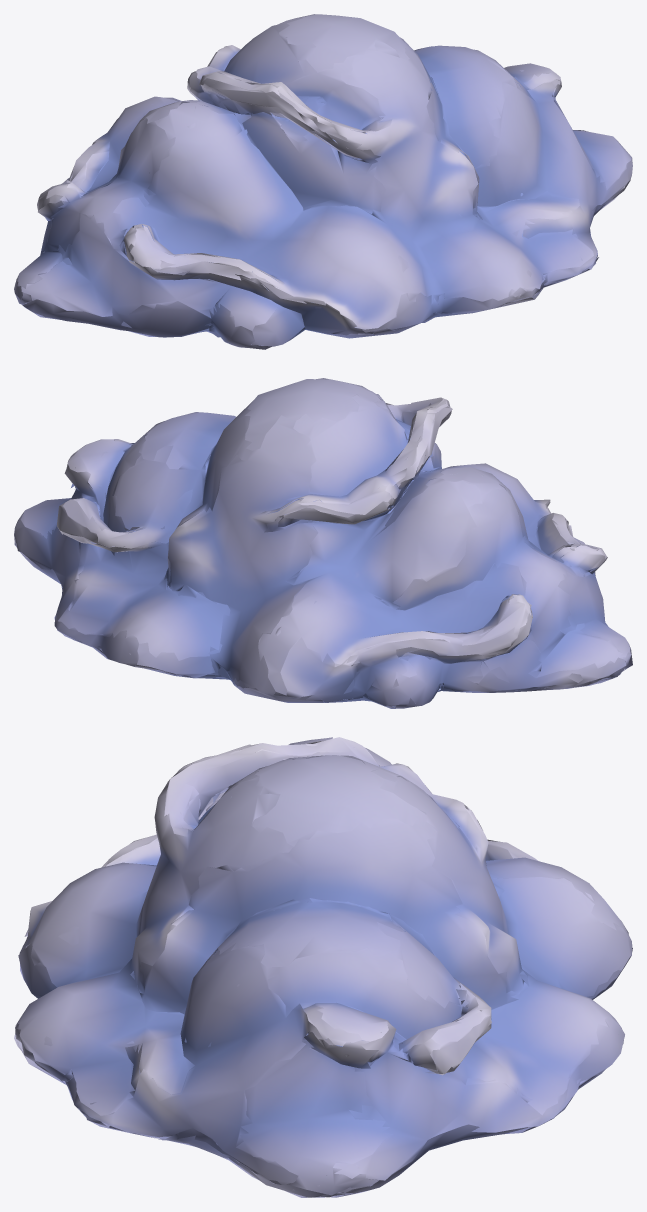
File: cotton-cloudbank-lod.glb
The picture shows the model from 3 angles, top to bottom: view 1: azimuth 30°, elevation 25°; view 2: azimuth 150°, elevation 25°; view 3: azimuth 270°, elevation 25°; orthographic projection. The views are drawn at different scales.
Parts seen in each view (by area): view 1: world; view 2: world; view 3: world.
Boxes of the visible parts, x1,y1,x2,y2 form: world: (14, 14, 632, 349); world: (14, 378, 632, 708); world: (14, 737, 632, 1197).
Bounding box in the file's own units: 0.1811 × 0.0684 × 0.1326.
1 material, 1 textured.
